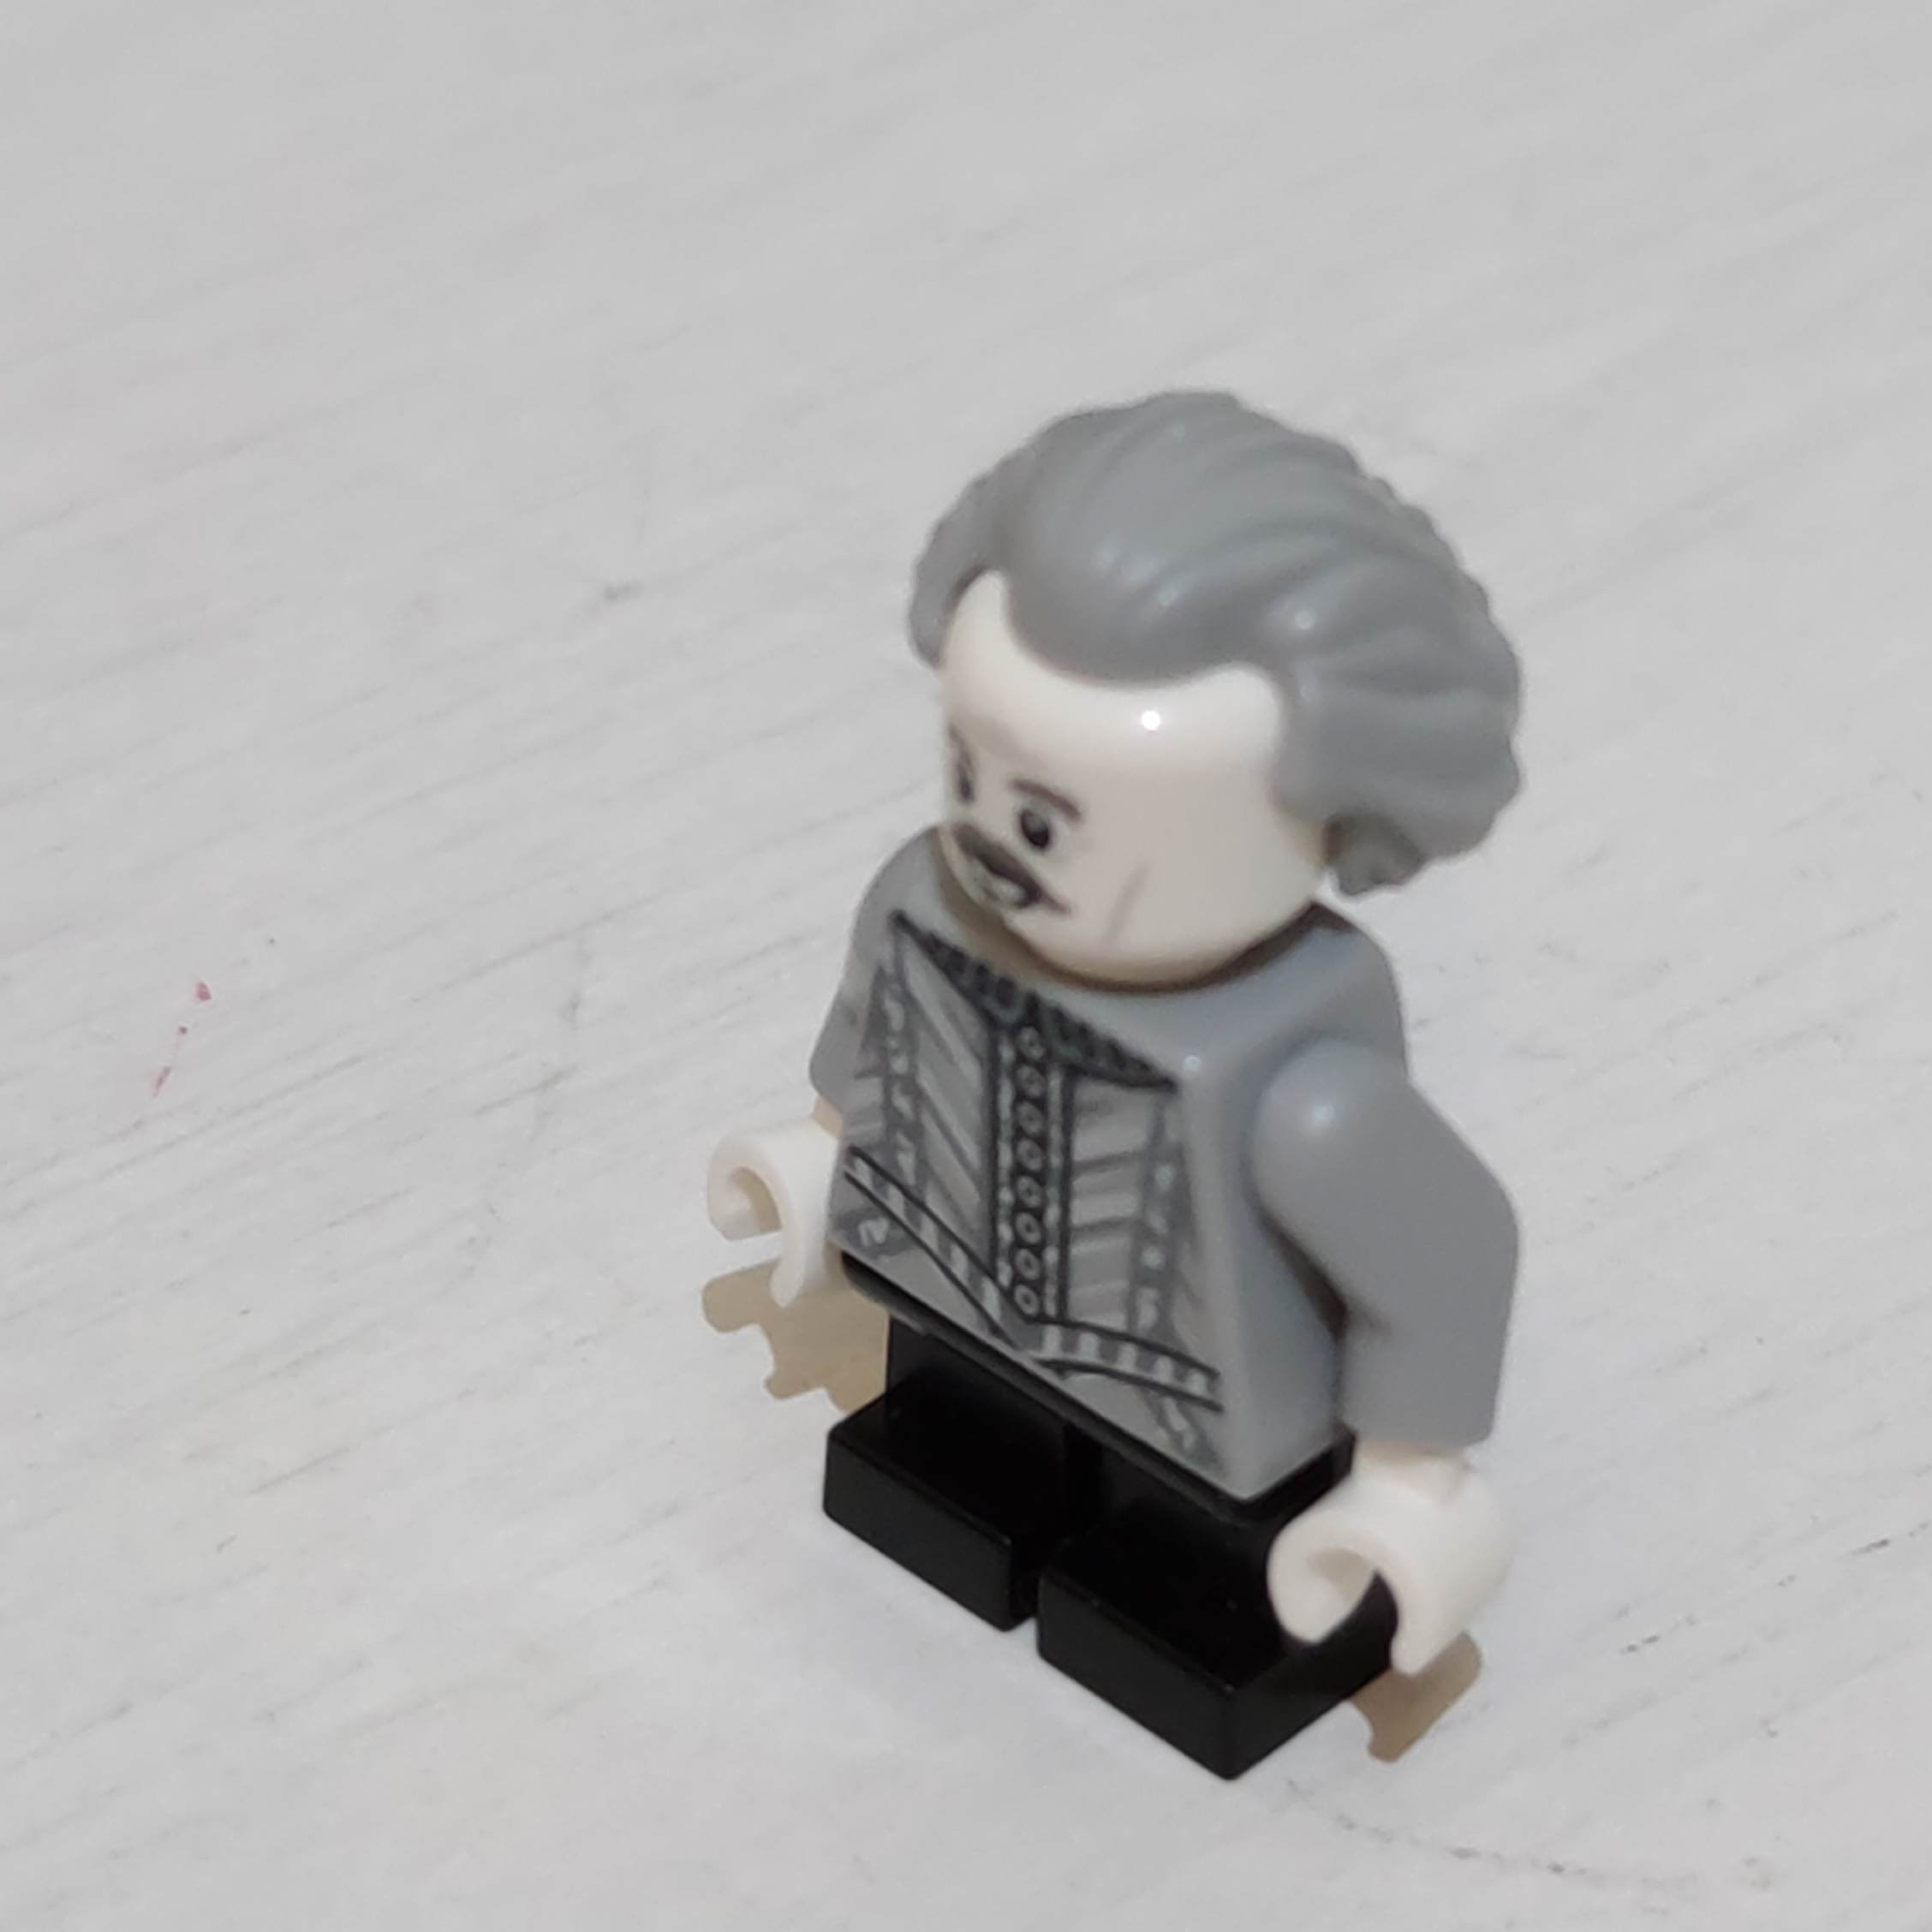lego: (709, 391, 1525, 1783)
